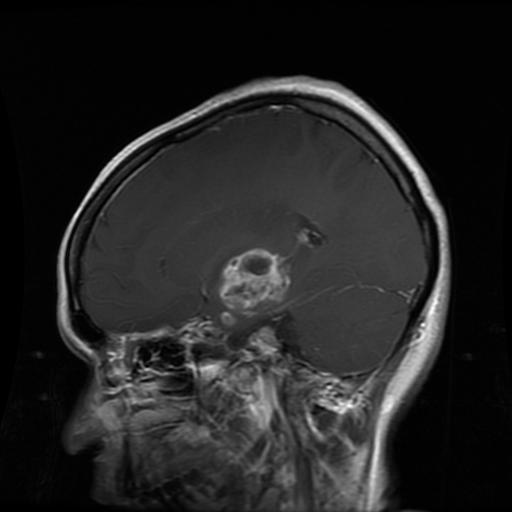Gliomia_tumour: (216, 250, 291, 328)
